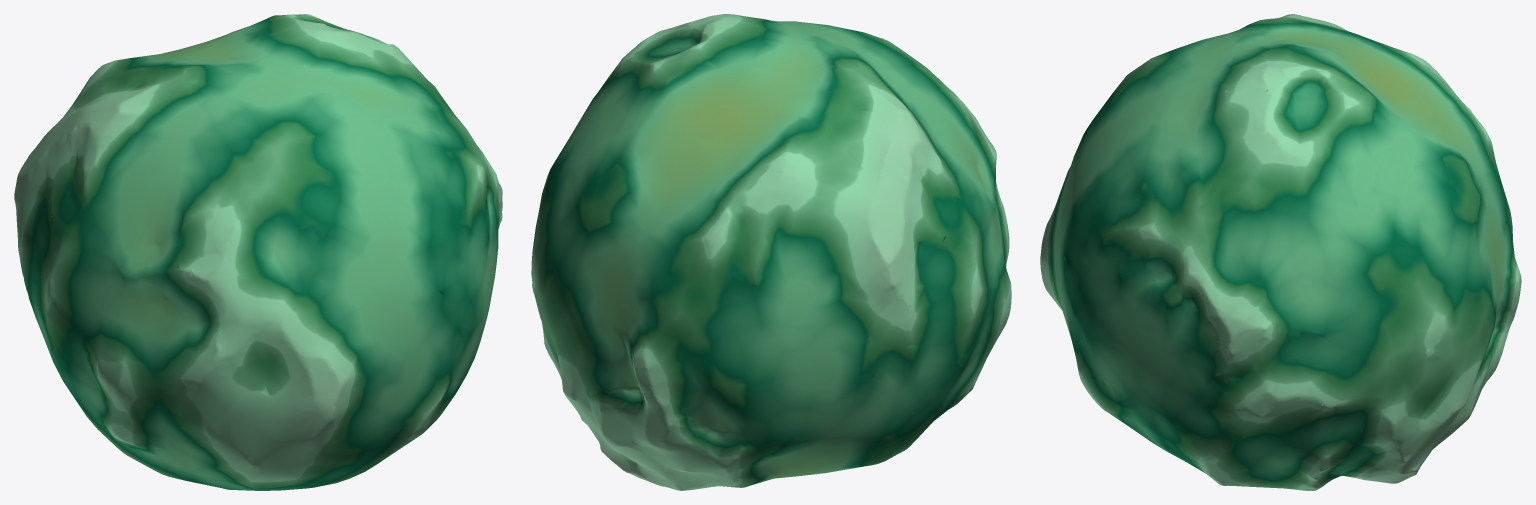
The model's file is Planet.FBX.
3 renders of one model, left to right at view 1: azimuth 30°, elevation 25°; view 2: azimuth 150°, elevation 25°; view 3: azimuth 270°, elevation 25°, orthographic. The views are drawn at different scales.
Parts seen in each view (by area): view 1: GeoSphere2; view 2: GeoSphere2; view 3: GeoSphere2.
Part boxes in pixels (left/top/right/bottom): GeoSphere2: left=14, top=14, right=502, bottom=490; GeoSphere2: left=531, top=14, right=1011, bottom=490; GeoSphere2: left=1040, top=14, right=1521, bottom=490.
Bounding box in the file's own units: 422 × 411 × 425.
Materials: 1 (1 with a texture image).
